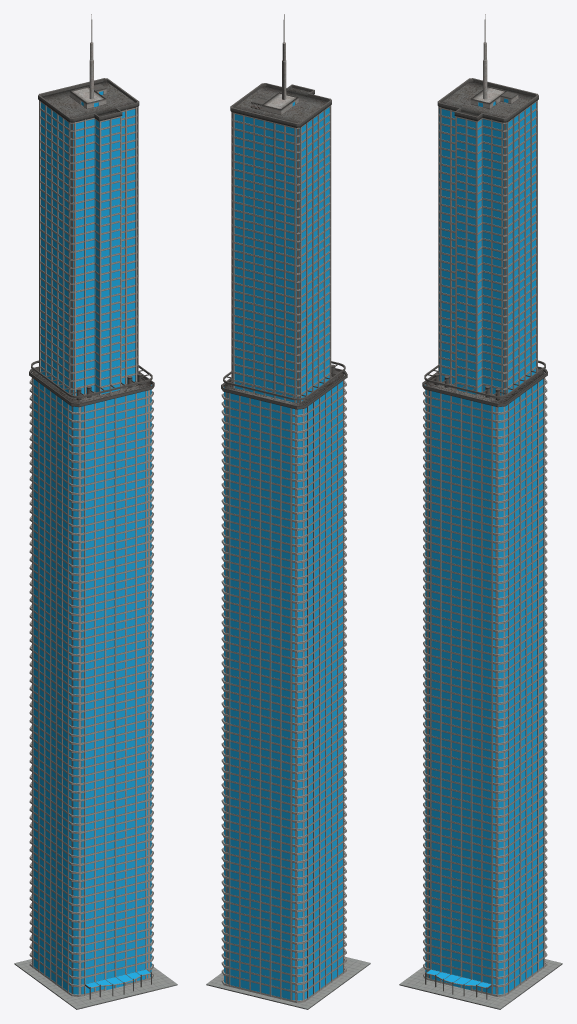
Rendered from skyscraper.glb.
3 views of the same model, side by side, from view 1: azimuth 30°, elevation 25°; view 2: azimuth 150°, elevation 25°; view 3: azimuth 330°, elevation 25° (orthographic).
Visible parts, largest first — view 1: Object_6, Object_5, Object_4, Object_3, Object_2; view 2: Object_6, Object_5, Object_4, Object_3, Object_2; view 3: Object_6, Object_5, Object_4, Object_3, Object_2.
Part boxes in pixels (x1=…): Object_6: x1=33, y1=91, x2=151, y2=994; Object_5: x1=32, y1=14, x2=150, y2=995; Object_4: x1=29, y1=378, x2=153, y2=996; Object_3: x1=29, y1=78, x2=154, y2=999; Object_2: x1=14, y1=959, x2=177, y2=1009; Object_6: x1=224, y1=102, x2=342, y2=1000; Object_5: x1=225, y1=14, x2=344, y2=1001; Object_4: x1=221, y1=380, x2=346, y2=1002; Object_3: x1=221, y1=83, x2=347, y2=960; Object_2: x1=206, y1=956, x2=370, y2=1009; Object_6: x1=425, y1=98, x2=543, y2=994; Object_5: x1=426, y1=14, x2=544, y2=995; Object_4: x1=423, y1=378, x2=547, y2=996; Object_3: x1=422, y1=78, x2=547, y2=999; Object_2: x1=399, y1=959, x2=562, y2=1009.
Size of the model in its own units: 64.33 by 582 by 68.93.
4 materials, 3 textured.
